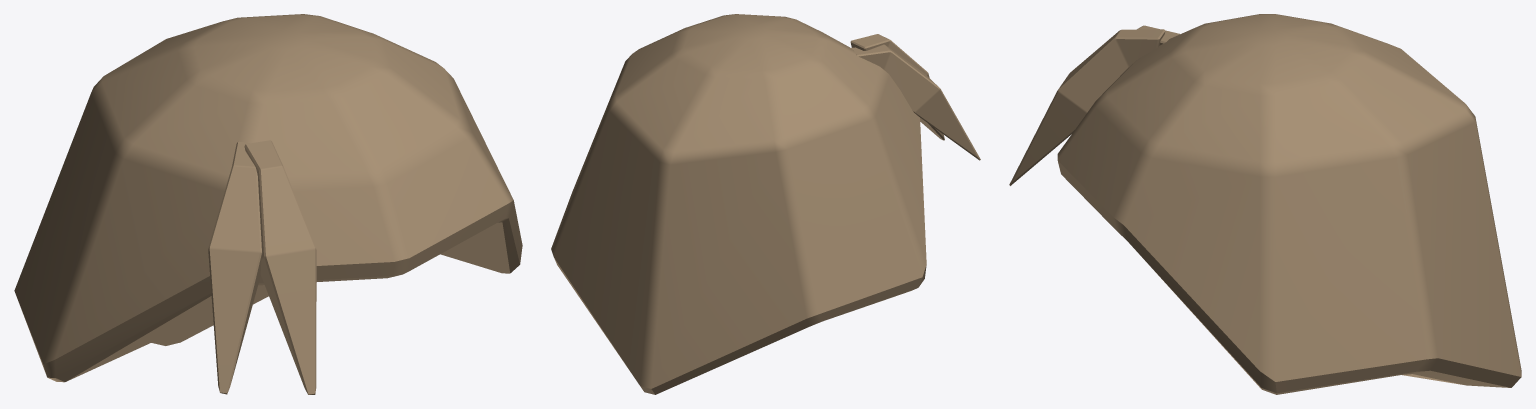
File: Caballo.fbx
The picture shows the model from 3 angles, left to right: view 1: azimuth 30°, elevation 25°; view 2: azimuth 150°, elevation 25°; view 3: azimuth 270°, elevation 25°; orthographic projection. The views are drawn at different scales.
Visible parts, largest first — view 1: Cabello; view 2: Cabello; view 3: Cabello.
Part boxes in pixels (x1=…): Cabello: x1=14, y1=14, x2=522, y2=394; Cabello: x1=551, y1=14, x2=980, y2=394; Cabello: x1=1009, y1=14, x2=1521, y2=394.
Bounding box in the file's own units: 0.6927 × 0.542 × 0.7249.
